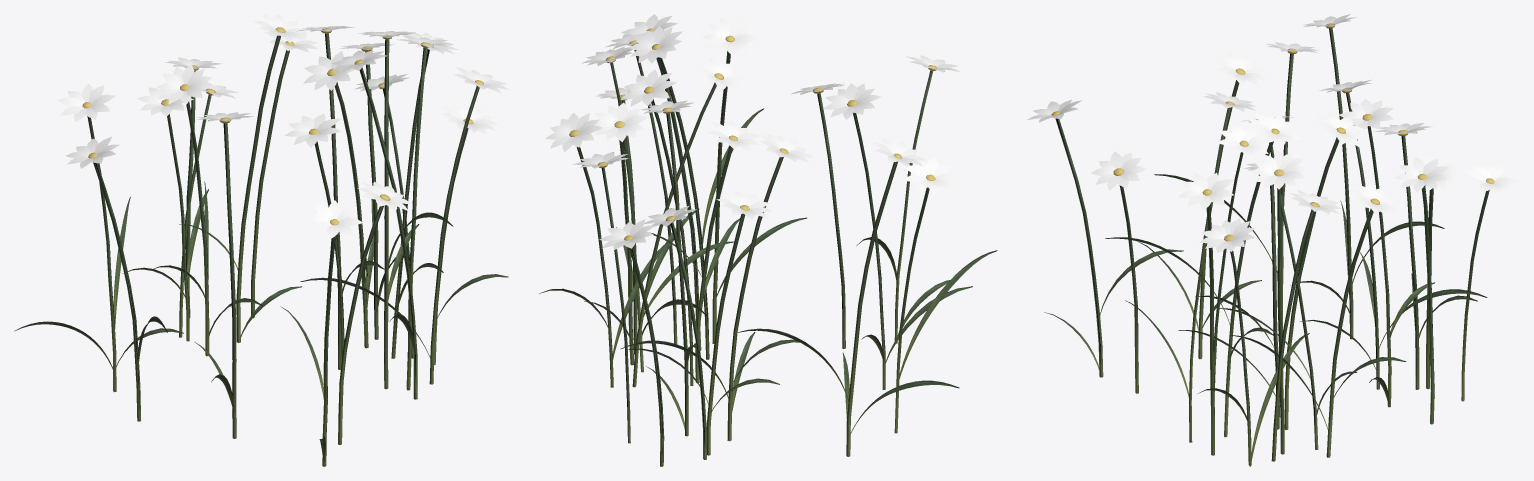
File: flowers.gltf
The picture shows the model from 3 angles, left to right: view 1: azimuth 30°, elevation 25°; view 2: azimuth 150°, elevation 25°; view 3: azimuth 270°, elevation 25°; orthographic projection. The views are drawn at different scales.
Visible parts, largest first — view 1: Wild White Flower Patch_Baked; view 2: Wild White Flower Patch_Baked; view 3: Wild White Flower Patch_Baked.
Part boxes in pixels (x1,y1,x2,y2): Wild White Flower Patch_Baked: (14,14,508,466); Wild White Flower Patch_Baked: (539,14,997,466); Wild White Flower Patch_Baked: (1027,14,1519,466).
Bounding box in the file's own units: 0.2725 × 0.2104 × 0.2834.
1 material, 1 textured.
